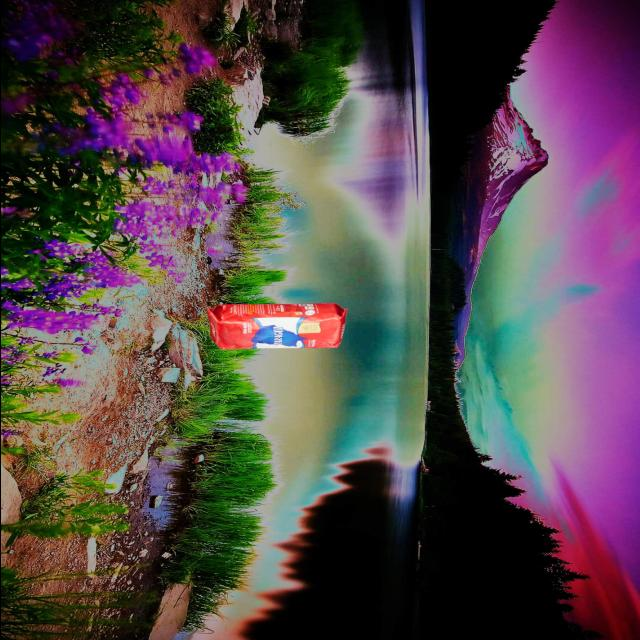mate bag: (205, 302, 348, 350)
